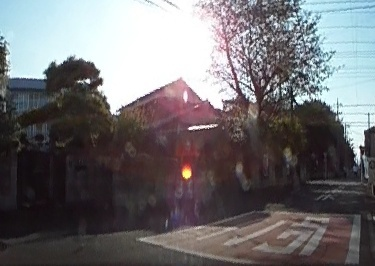person: (351, 163, 359, 178)
